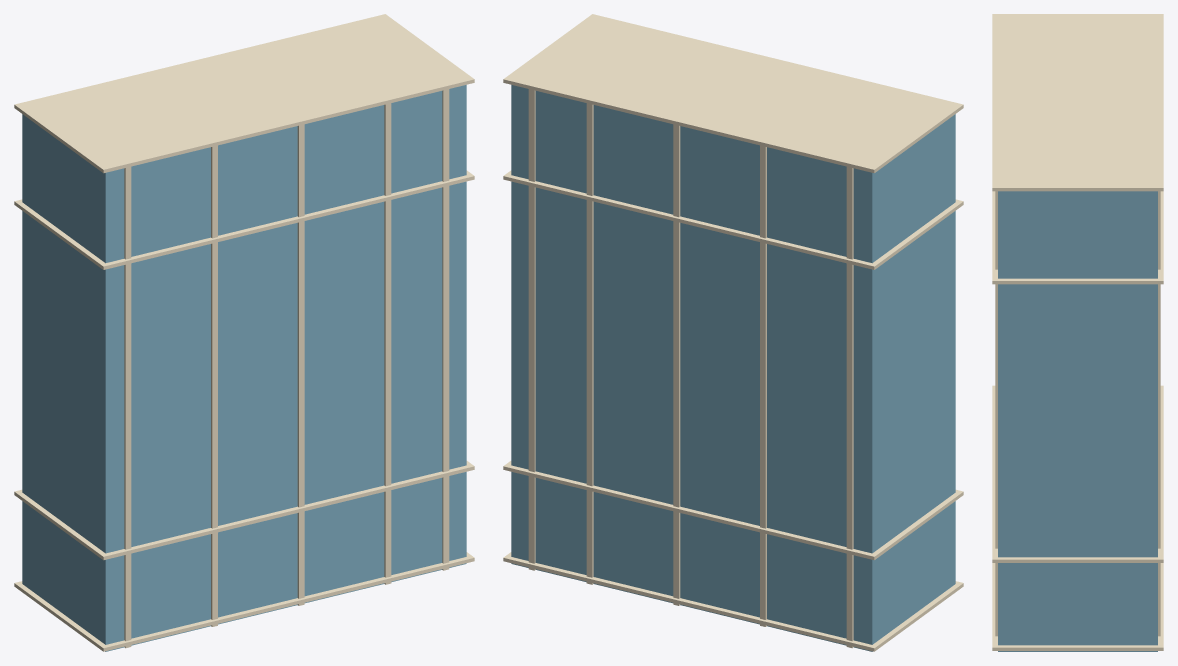
File: modern-1-lod2.glb
3 renders of one model, left to right at view 1: azimuth 30°, elevation 25°; view 2: azimuth 150°, elevation 25°; view 3: azimuth 270°, elevation 25°, orthographic. The views are drawn at different scales.
Visible parts, largest first — view 1: modern-1_architecture; view 2: modern-1_architecture; view 3: modern-1_architecture.
Boxes of the visible parts, box(x1,y1,x2,y2) form: modern-1_architecture: box(14, 14, 474, 651); modern-1_architecture: box(503, 14, 963, 651); modern-1_architecture: box(992, 14, 1163, 651).
Size of the model in its own units: 25.7 by 32.12 by 10.7.
